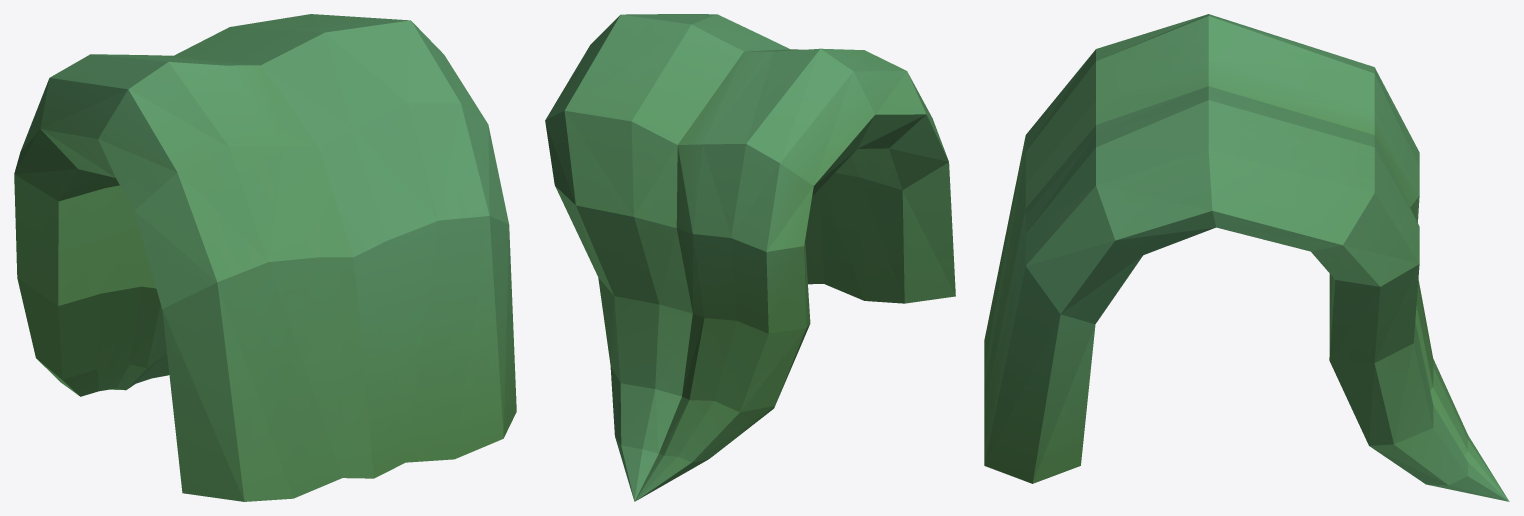
The model's file is leef_02.FBX.
3 views of the same model, side by side, from view 1: azimuth 30°, elevation 25°; view 2: azimuth 150°, elevation 25°; view 3: azimuth 270°, elevation 25° (orthographic). The views are drawn at different scales.
Visible parts, largest first — view 1: leef_002; view 2: leef_002; view 3: leef_002.
Boxes of the visible parts, x1,y1,x2,y2 form: leef_002: (14, 14, 516, 501); leef_002: (545, 14, 955, 501); leef_002: (984, 14, 1509, 501).
Size of the model in its own units: 2.06 by 2.5 by 2.64.
Materials: 1 (1 with a texture image).
